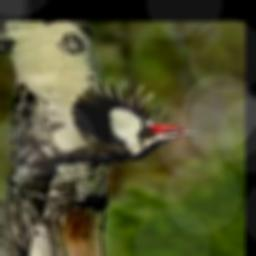Woodpecker: (19, 79, 208, 173)
